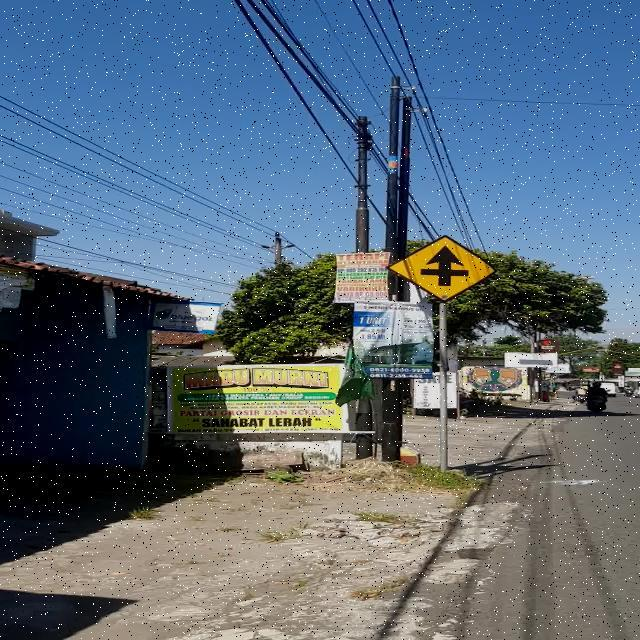Persimpangan 3 Prioritas: (386, 235, 496, 302)
